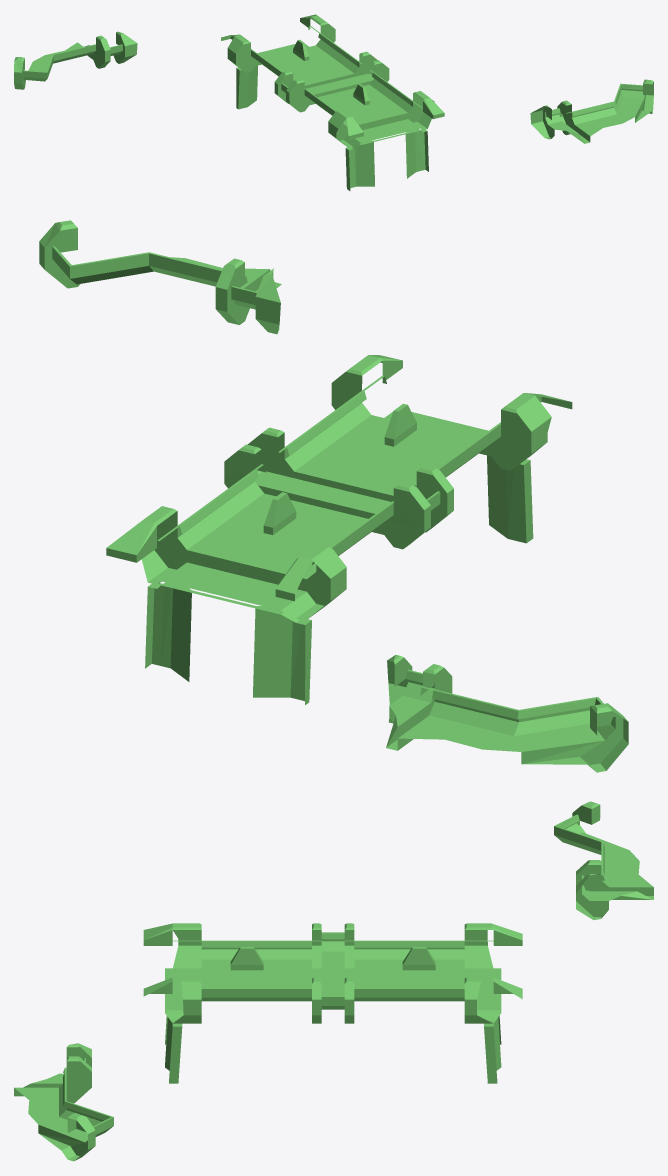
The model's file is cluster_7.fbx.
3 renders of one model, top to bottom at view 1: azimuth 30°, elevation 25°; view 2: azimuth 150°, elevation 25°; view 3: azimuth 270°, elevation 25°, orthographic. The views are drawn at different scales.
Parts seen in each view (by area): view 1: cluster_7; view 2: cluster_7; view 3: cluster_7.
Part boxes in pixels (x1,y1,x2,y2): cluster_7: [14, 14, 653, 190]; cluster_7: [39, 220, 628, 772]; cluster_7: [14, 801, 653, 1161].
Bounding box in the file's own units: 397543 × 61804 × 330864.
